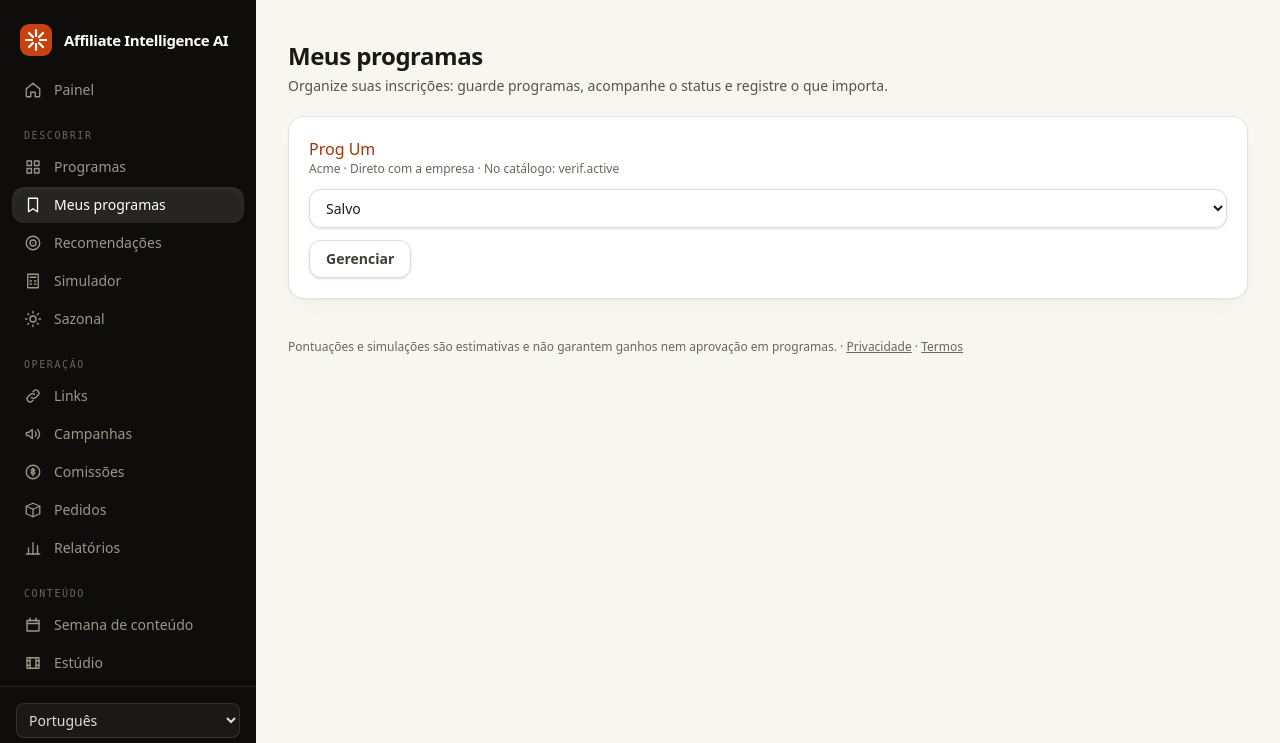
gestão do afiliado › Meus programas: mostra o link oficial como não verificado e que o usuário se inscreve sozinho
The image size is (1280, 743).
Click the button "Gerenciar" at [360, 259], box [309, 240, 411, 278]
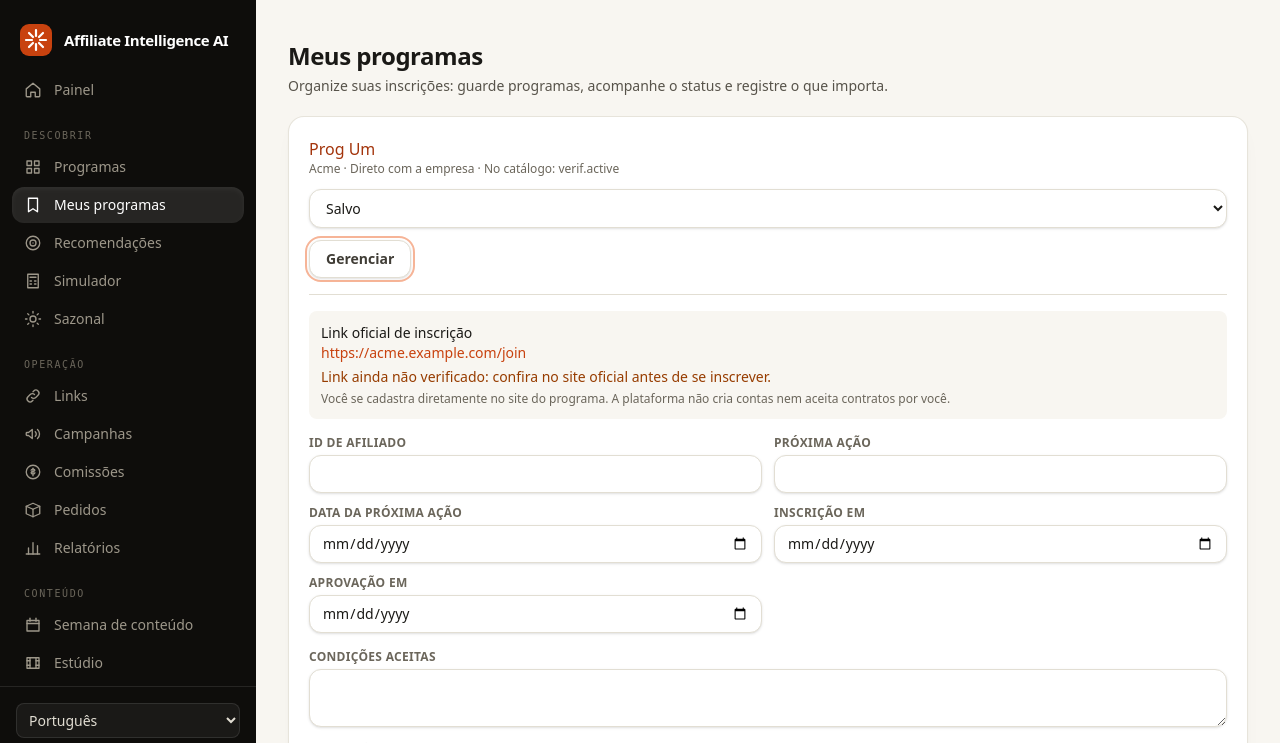
Check: the text "Link ainda não verificado" is shown, box [321, 367, 771, 386]
Check: the text "não cria contas nem aceita contratos por você" is shown, box [321, 390, 950, 407]
